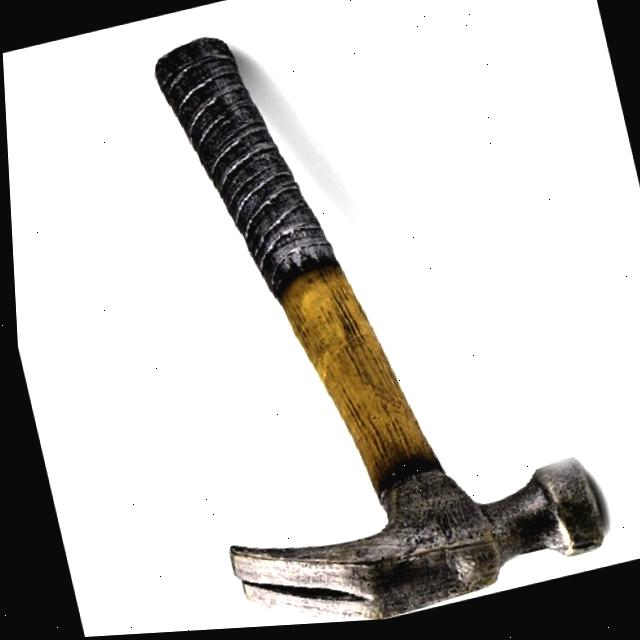hammer: (100, 0, 614, 635)
